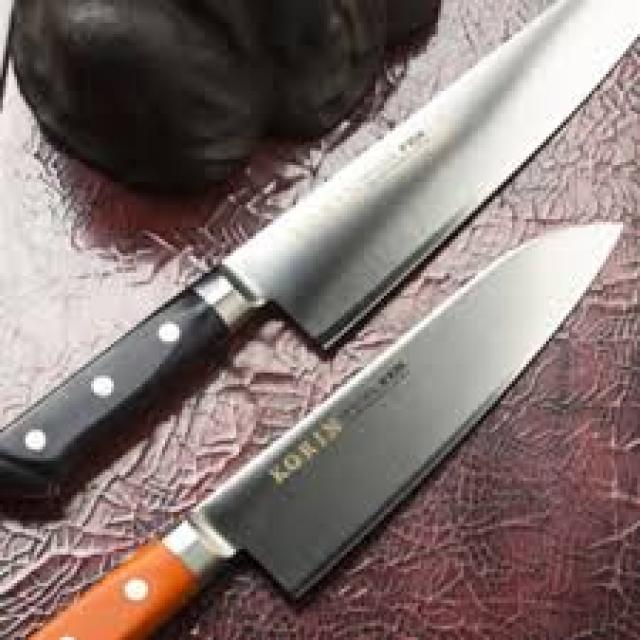knives: (201, 4, 640, 353)
